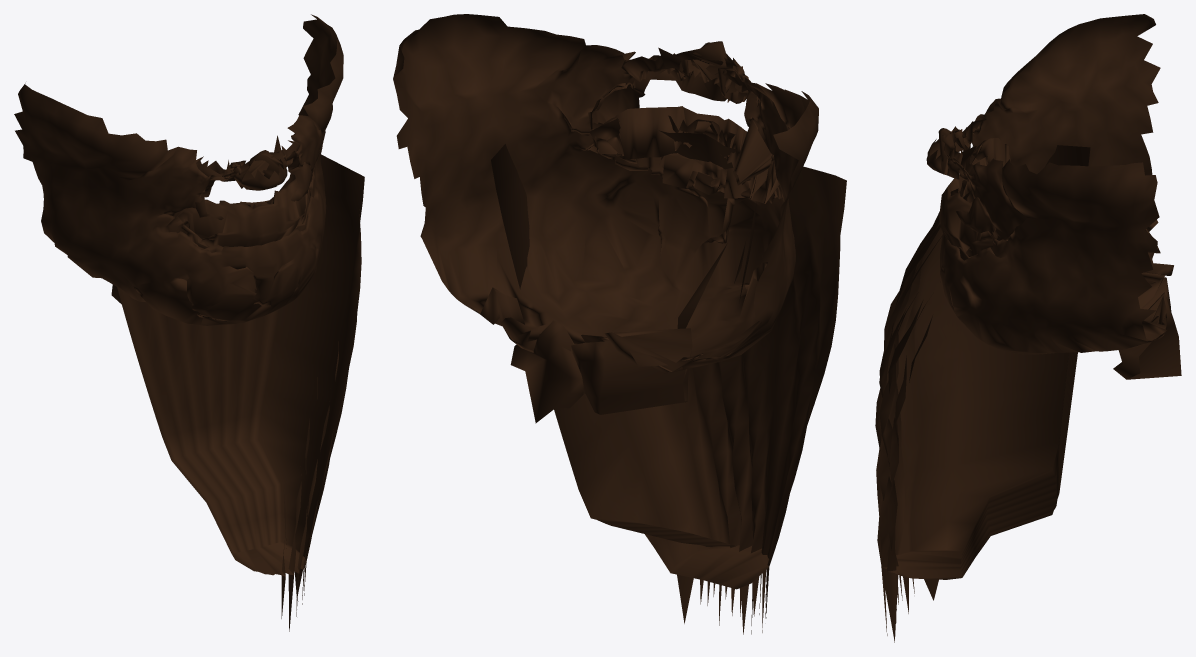
The model's file is kopf.bart.wikinger.glb.
3 renders of one model, left to right at view 1: azimuth 30°, elevation 25°; view 2: azimuth 150°, elevation 25°; view 3: azimuth 270°, elevation 25°, orthographic. The views are drawn at different scales.
Parts seen in each view (by area): view 1: bart; view 2: bart; view 3: bart.
Part boxes in pixels (x1,y1,x2,y2): bart: (14,14,364,631); bart: (393,14,846,634); bart: (875,14,1181,642).
Bounding box in the file's own units: 0.1614 × 0.2574 × 0.1296.
